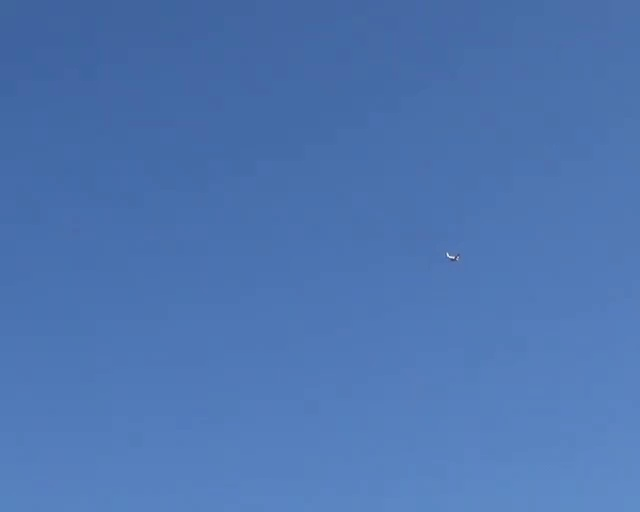AIRPLANE: (445, 251, 460, 261)
